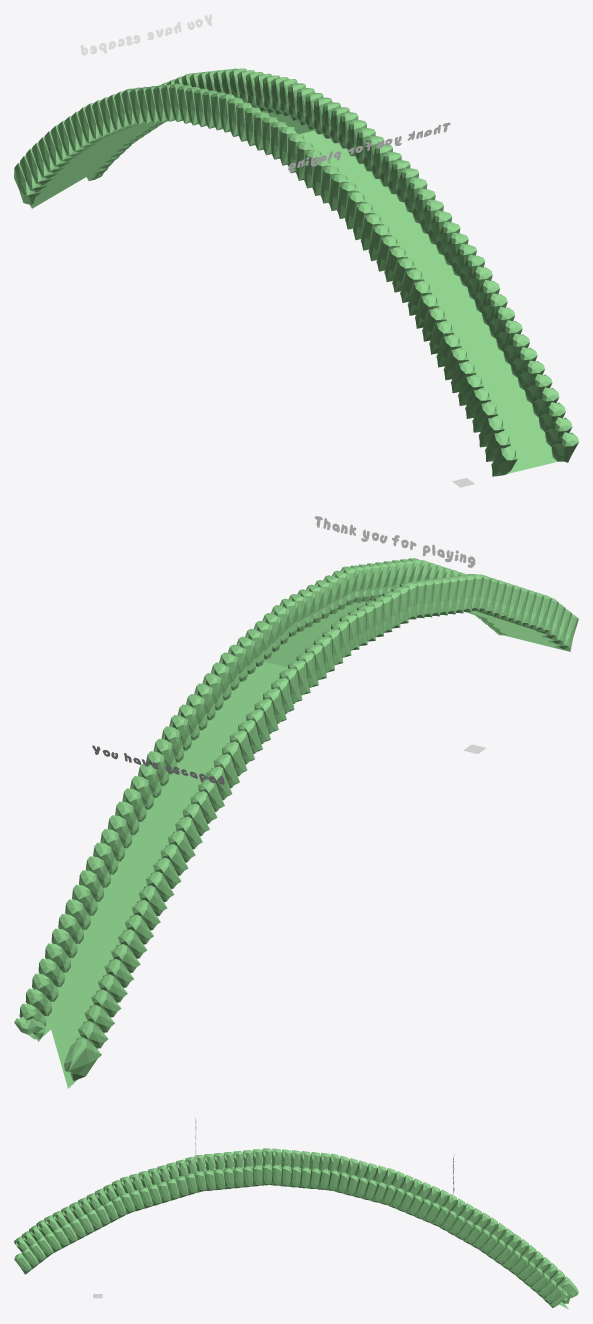
The model's file is end_screen.glb.
The picture shows the model from 3 angles, top to bottom: view 1: azimuth 30°, elevation 25°; view 2: azimuth 150°, elevation 25°; view 3: azimuth 270°, elevation 25°; orthographic projection. The views are drawn at different scales.
Parts seen in each view (by area): view 1: bush_plane, Text, Text.001; view 2: bush_plane, Text.001; view 3: bush_plane.
Part boxes in pixels (x1,y1,x2,y2): bush_plane: (14, 68, 578, 476); Text: (80, 14, 212, 55); Text.001: (288, 122, 450, 172); bush_plane: (14, 558, 578, 1088); Text.001: (314, 516, 475, 567); bush_plane: (14, 1148, 578, 1309).
Size of the model in its own units: 21.72 by 39.84 by 117.
